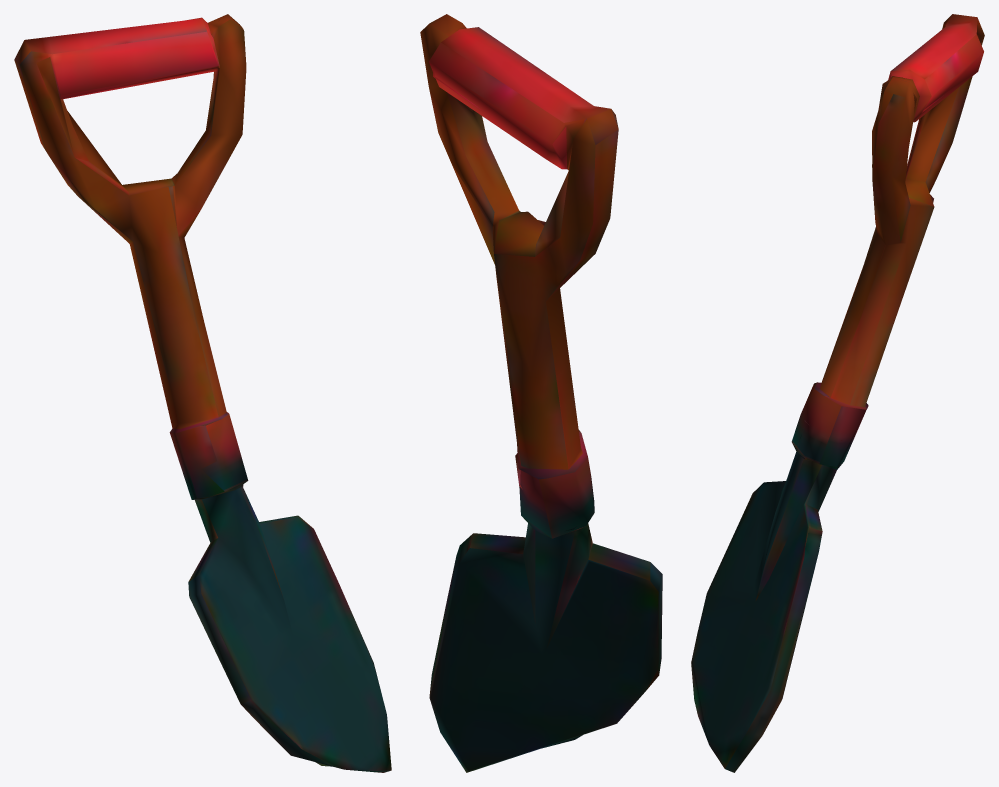
The model's file is trowel.glb.
The picture shows the model from 3 angles, left to right: view 1: azimuth 30°, elevation 25°; view 2: azimuth 150°, elevation 25°; view 3: azimuth 270°, elevation 25°; orthographic projection. The views are drawn at different scales.
Bounding box in the file's own units: 0.3778 × 1 × 0.401.
1 material, 1 textured.
